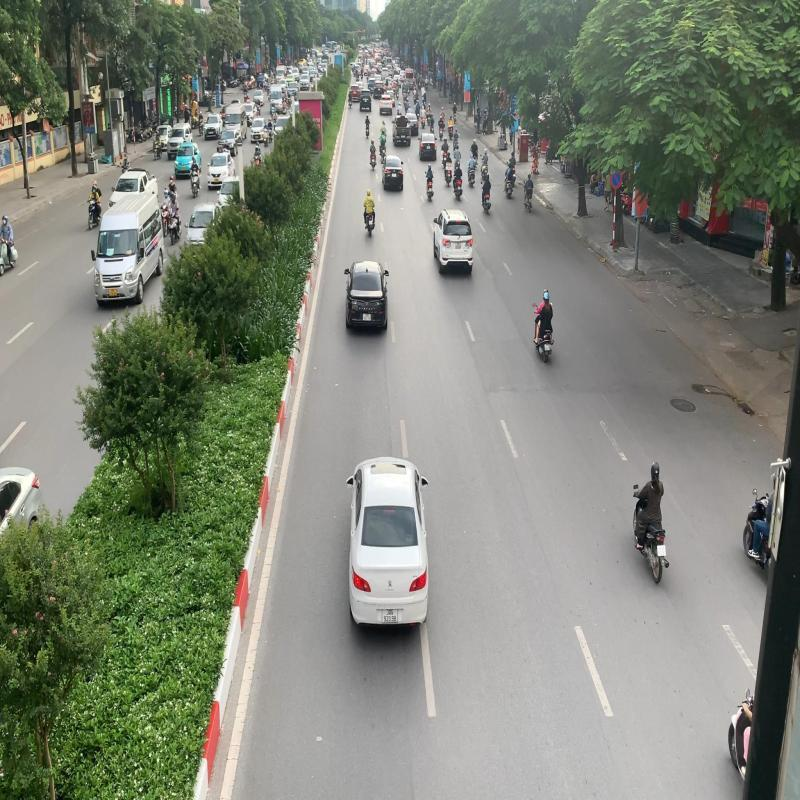helmet: (650, 462, 660, 477)
licenseplate: (656, 544, 666, 557)
motorcyclist: (633, 460, 670, 584)
